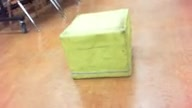cube: (59, 8, 132, 80)
